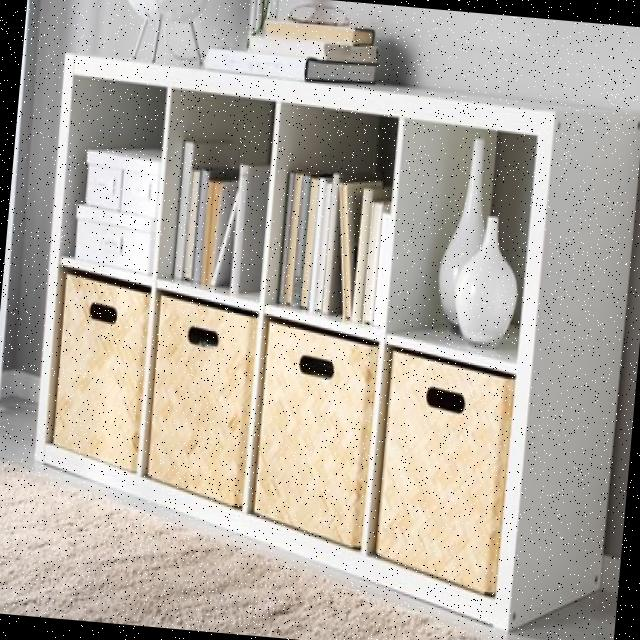Shelf: (14, 46, 640, 640)
